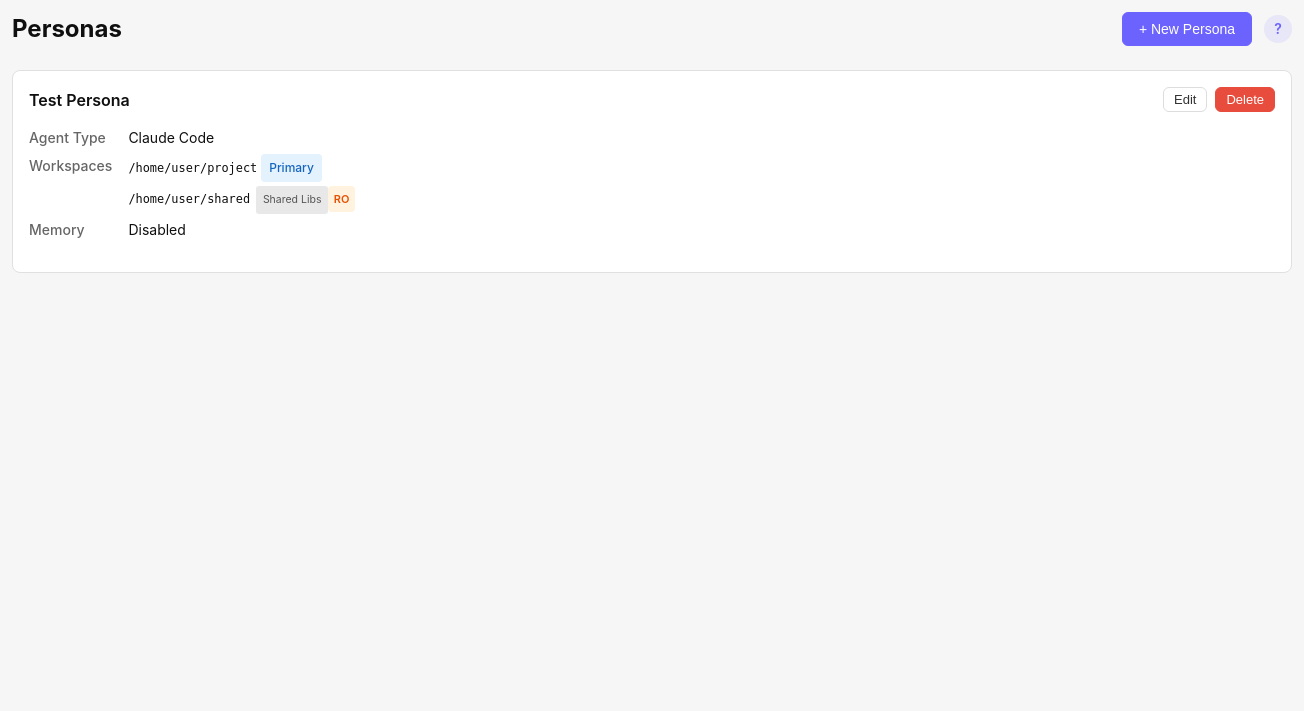
Test case: PersonasPage - Additional Workspaces › duplicate path detection shows inline error
Click the button "+ New Persona" at (1187,29), box x1=1122 y1=12 x2=1252 y2=46
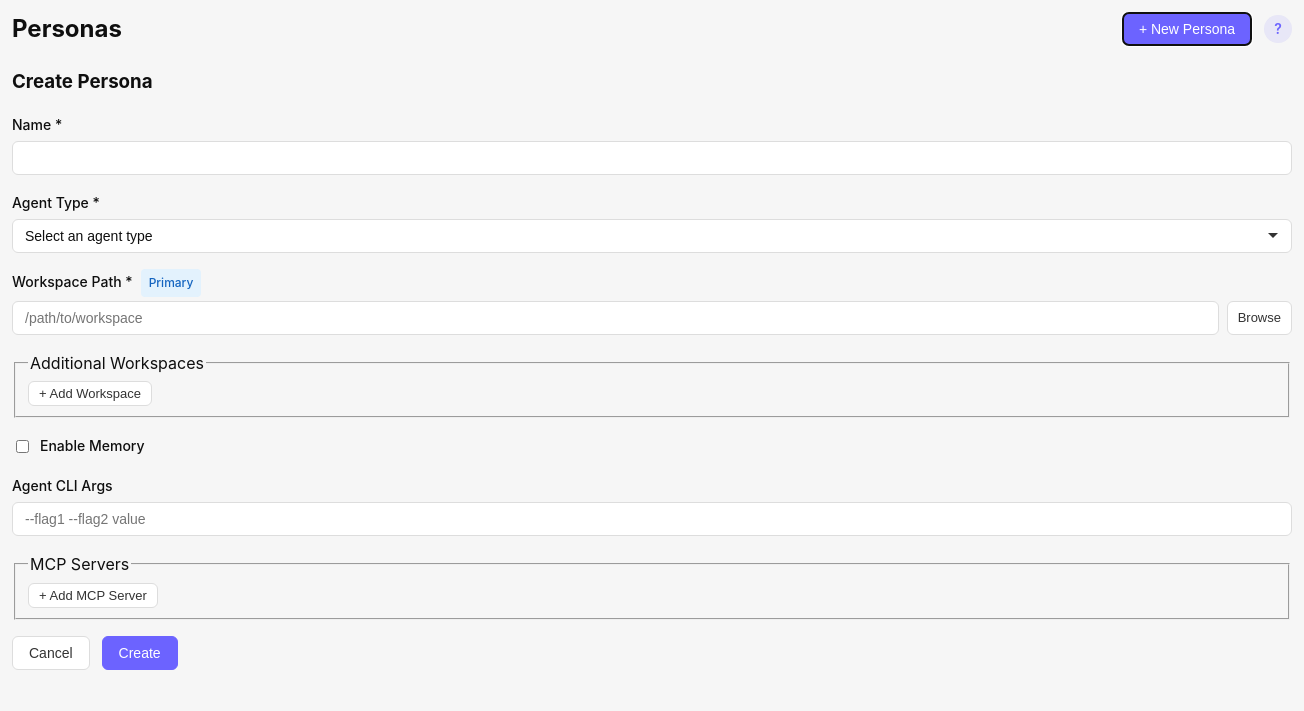
# Set primary workspace
Type "/home/user/project" into the field labelled "Workspace Path * Primary" at (615,318), box x1=12 y1=301 x2=1219 y2=335
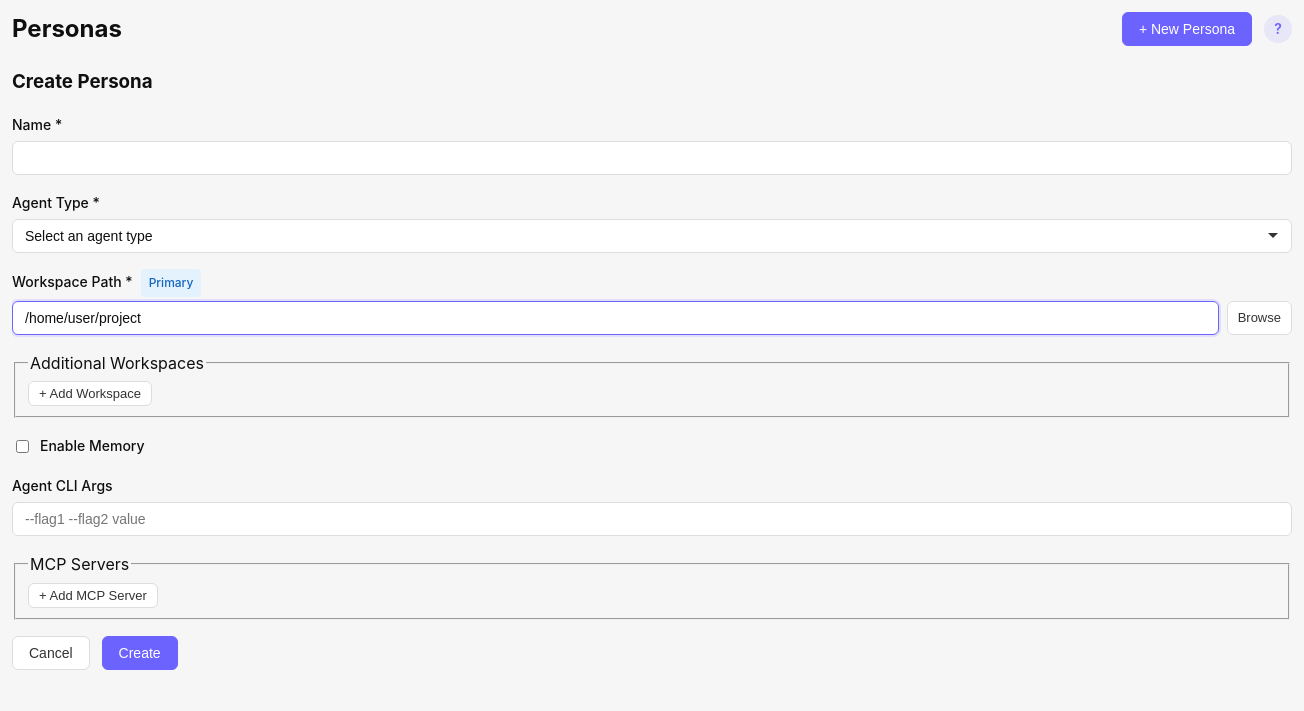
# Add two additional workspaces with the same path
Click the button "+ Add Workspace" at (90,394), box x1=28 y1=381 x2=152 y2=406
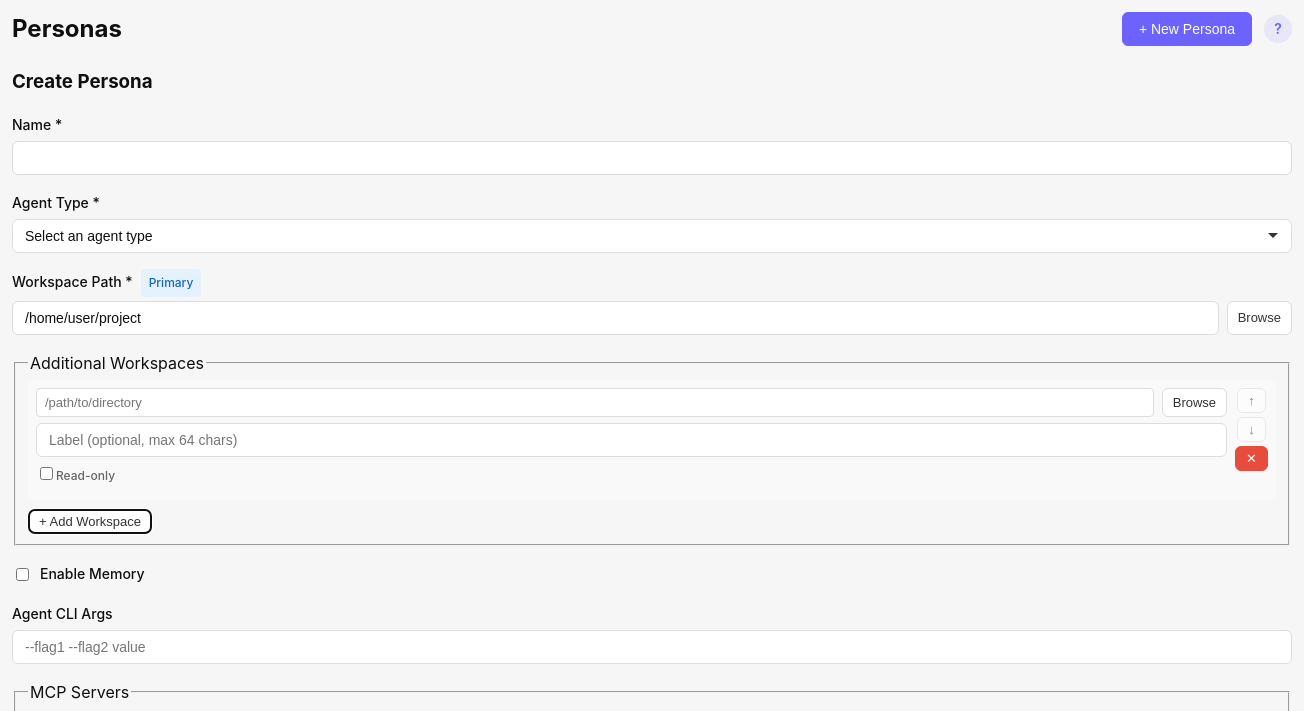
Click the button "+ Add Workspace" at (90,522), box x1=28 y1=509 x2=152 y2=534
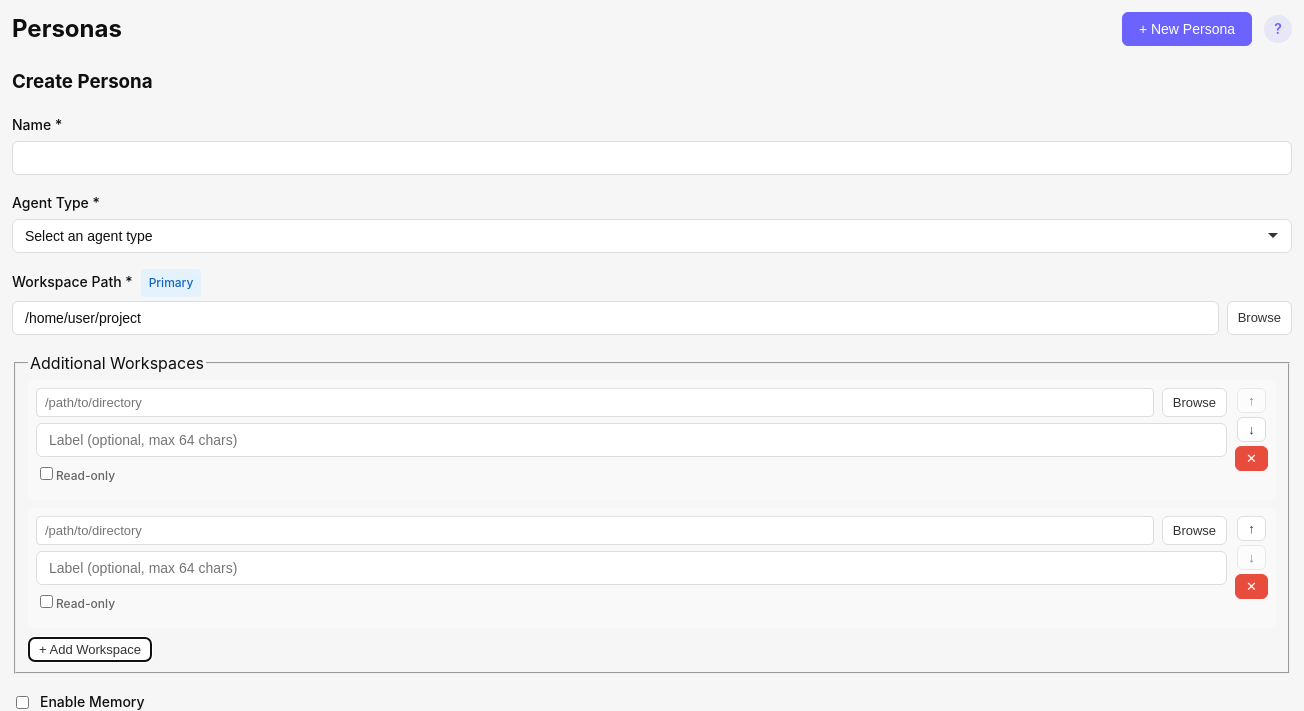
Type "/home/user/shared" into the field named "Additional workspace 1 path" at (595,403), box x1=36 y1=388 x2=1154 y2=417
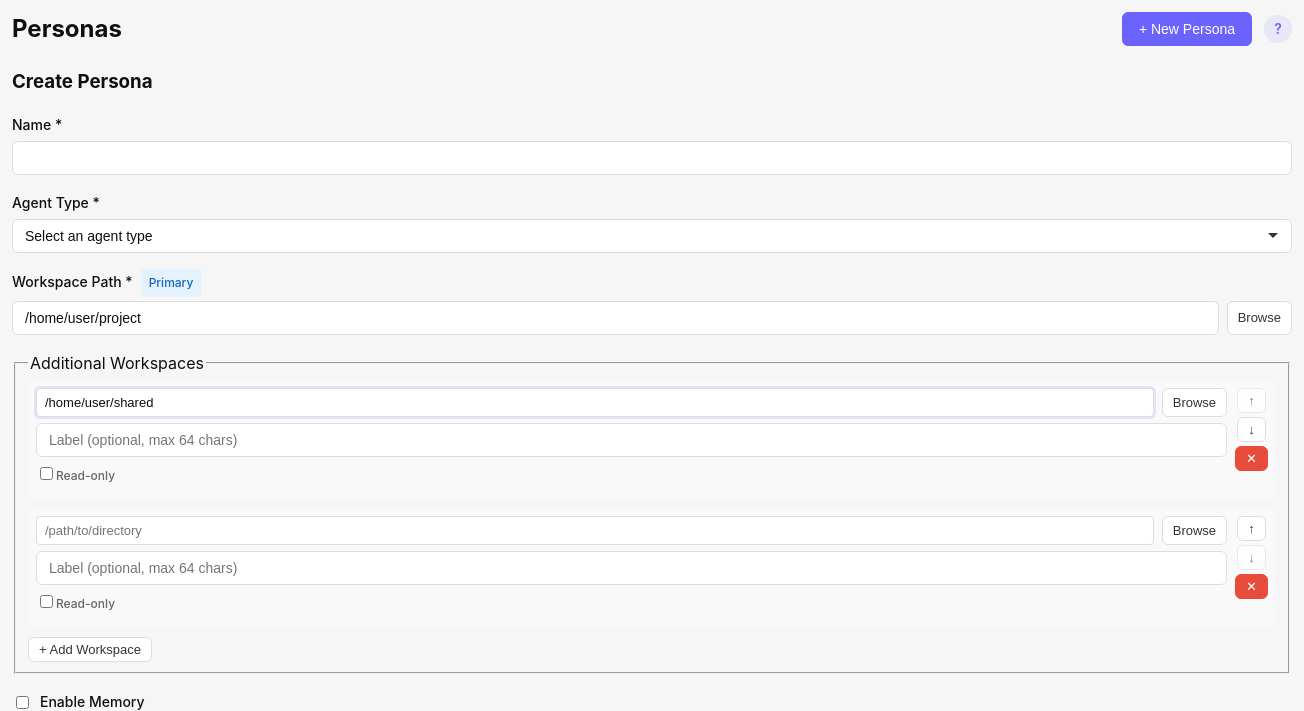
Type "/home/user/shared" into the field named "Additional workspace 2 path" at (595,531), box x1=36 y1=516 x2=1154 y2=545
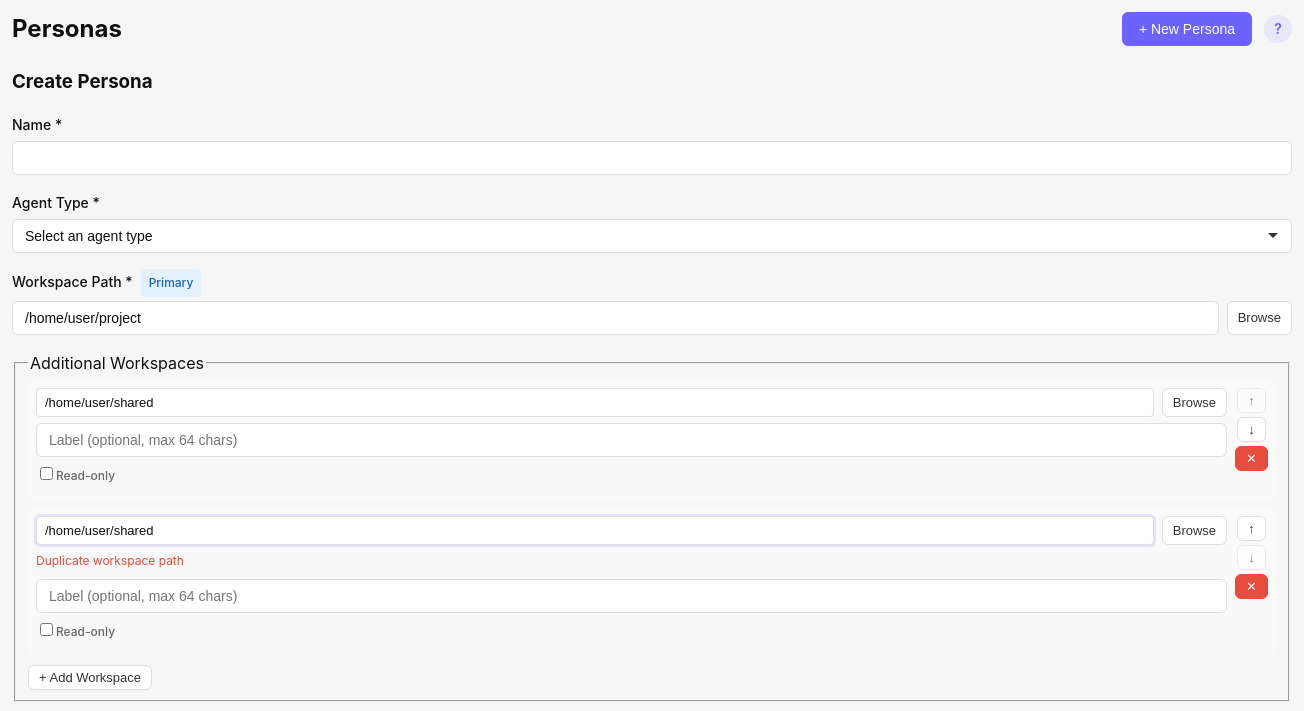
Check: the text "Duplicate workspace path" is shown, box x1=36 y1=553 x2=184 y2=568
